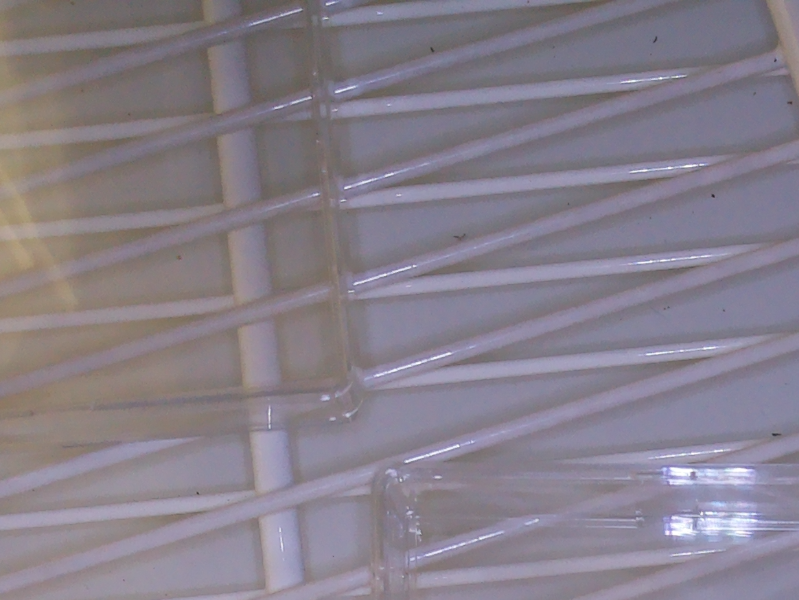plate: (1, 1, 362, 440), (371, 458, 799, 600)
